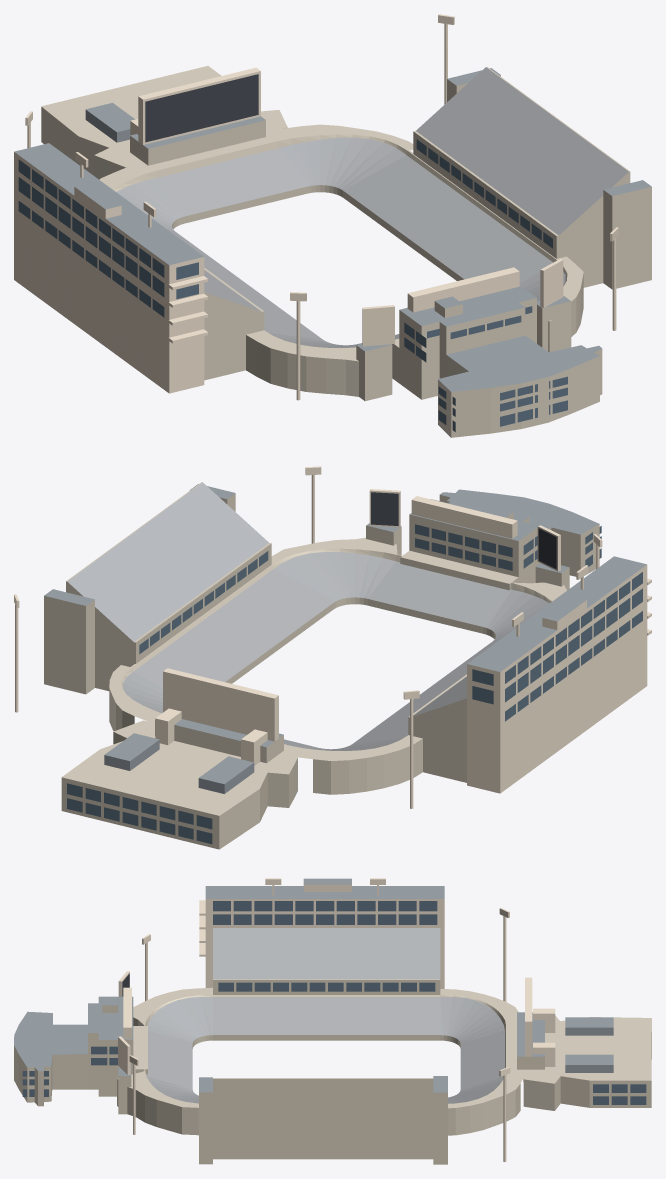
File: phx-sun-devil-stadium.glb
3 renders of one model, top to bottom at view 1: azimuth 30°, elevation 25°; view 2: azimuth 150°, elevation 25°; view 3: azimuth 270°, elevation 25°, orthographic. The views are drawn at different scales.
Visible parts, largest first — view 1: Mountain America Stadium; view 2: Mountain America Stadium; view 3: Mountain America Stadium.
Part boxes in pixels (x1,y1,x2,y2): Mountain America Stadium: (14, 14, 651, 437); Mountain America Stadium: (14, 466, 651, 849); Mountain America Stadium: (14, 878, 651, 1164).
Size of the model in its own units: 212 by 63.1 by 317.
